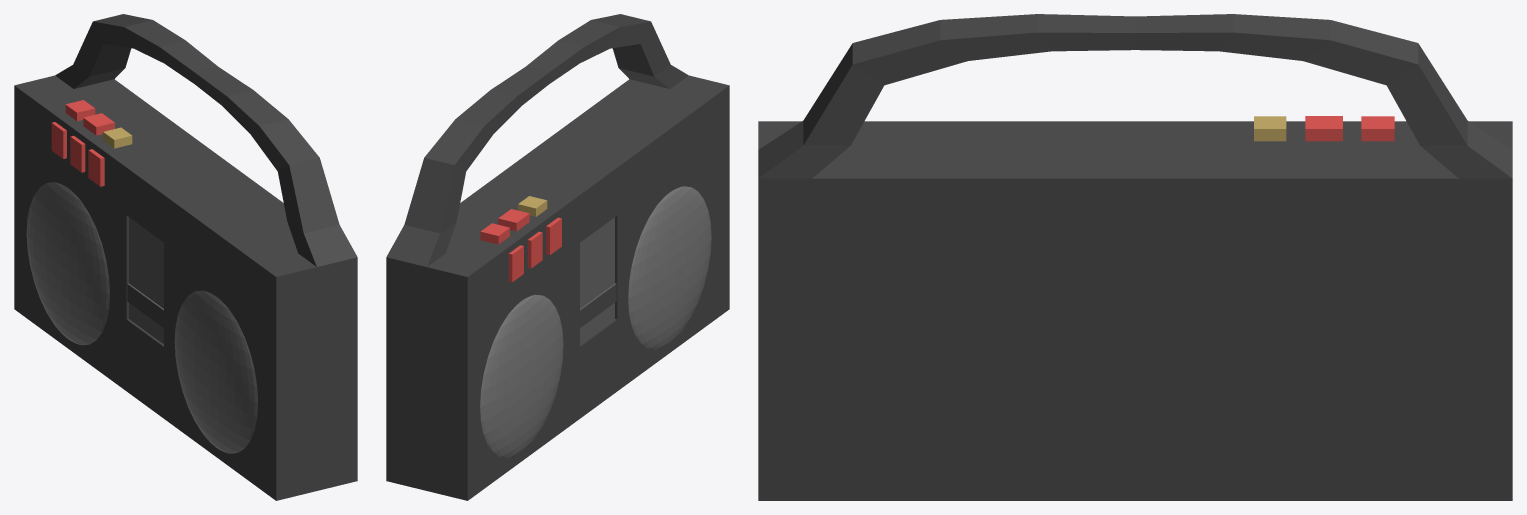
The model's file is boombox.fbx.
The picture shows the model from 3 angles, left to right: view 1: azimuth 30°, elevation 25°; view 2: azimuth 150°, elevation 25°; view 3: azimuth 270°, elevation 25°; orthographic projection. The views are drawn at different scales.
Visible parts, largest first — view 1: Cube, Sphere, Sphere.001, Cube.002, Cube.001; view 2: Cube, Sphere.001, Sphere, Cube.002, Cube.001; view 3: Cube, Cube.001.
Part boxes in pixels (x1,y1,x2,y2): Cube: [14, 14, 357, 500]; Sphere: [26, 182, 109, 345]; Sphere.001: [174, 290, 257, 453]; Cube.002: [51, 122, 104, 186]; Cube.001: [65, 100, 132, 148]; Cube: [386, 14, 729, 500]; Sphere.001: [628, 186, 711, 349]; Sphere: [480, 294, 563, 457]; Cube.002: [508, 217, 561, 282]; Cube.001: [480, 196, 547, 244]; Cube: [758, 14, 1512, 500]; Cube.001: [1254, 116, 1394, 141].
Size of the model in its own units: 73.78 by 256 by 378.
